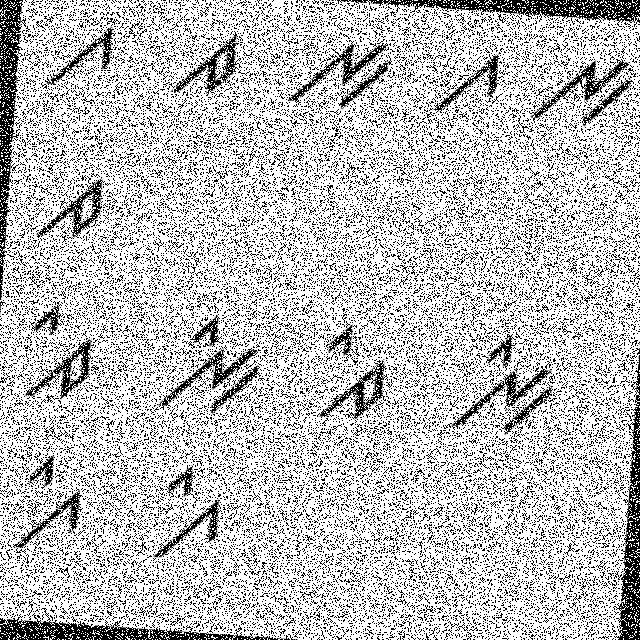ga: (38, 12, 122, 98), (432, 39, 508, 124)
gi: (144, 462, 228, 570), (6, 450, 87, 558)
nga: (278, 28, 395, 116), (525, 43, 638, 132)
ngi: (444, 324, 560, 450), (147, 306, 266, 425)
ta: (152, 23, 249, 102), (25, 166, 109, 248)
ti: (306, 304, 393, 426), (17, 300, 98, 404)
